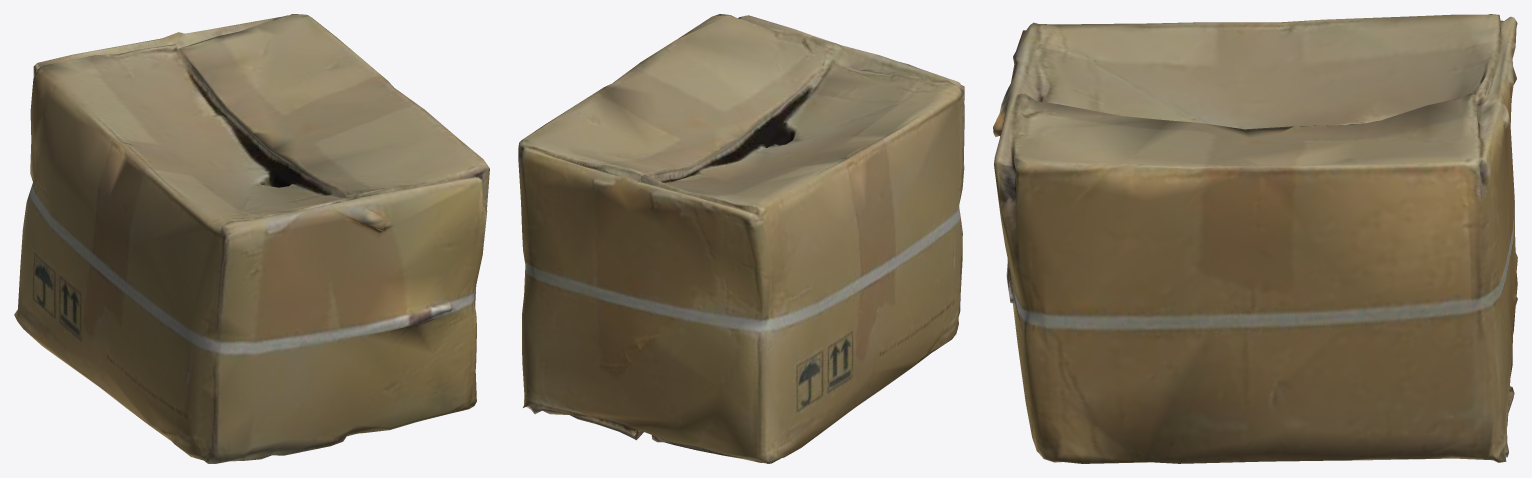
File: cardboard.glb
3 views of the same model, side by side, from view 1: azimuth 30°, elevation 25°; view 2: azimuth 150°, elevation 25°; view 3: azimuth 270°, elevation 25° (orthographic). The views are drawn at different scales.
Visible parts, largest first — view 1: cardboard_box_01; view 2: cardboard_box_01; view 3: cardboard_box_01.
Part boxes in pixels (left/top/right/bottom): cardboard_box_01: left=14, top=14, right=489, bottom=463; cardboard_box_01: left=518, top=14, right=964, bottom=463; cardboard_box_01: left=993, top=14, right=1517, bottom=463.
Size of the model in its own units: 0.3868 by 0.3418 by 0.5159.
Materials: 1 (1 with a texture image).
